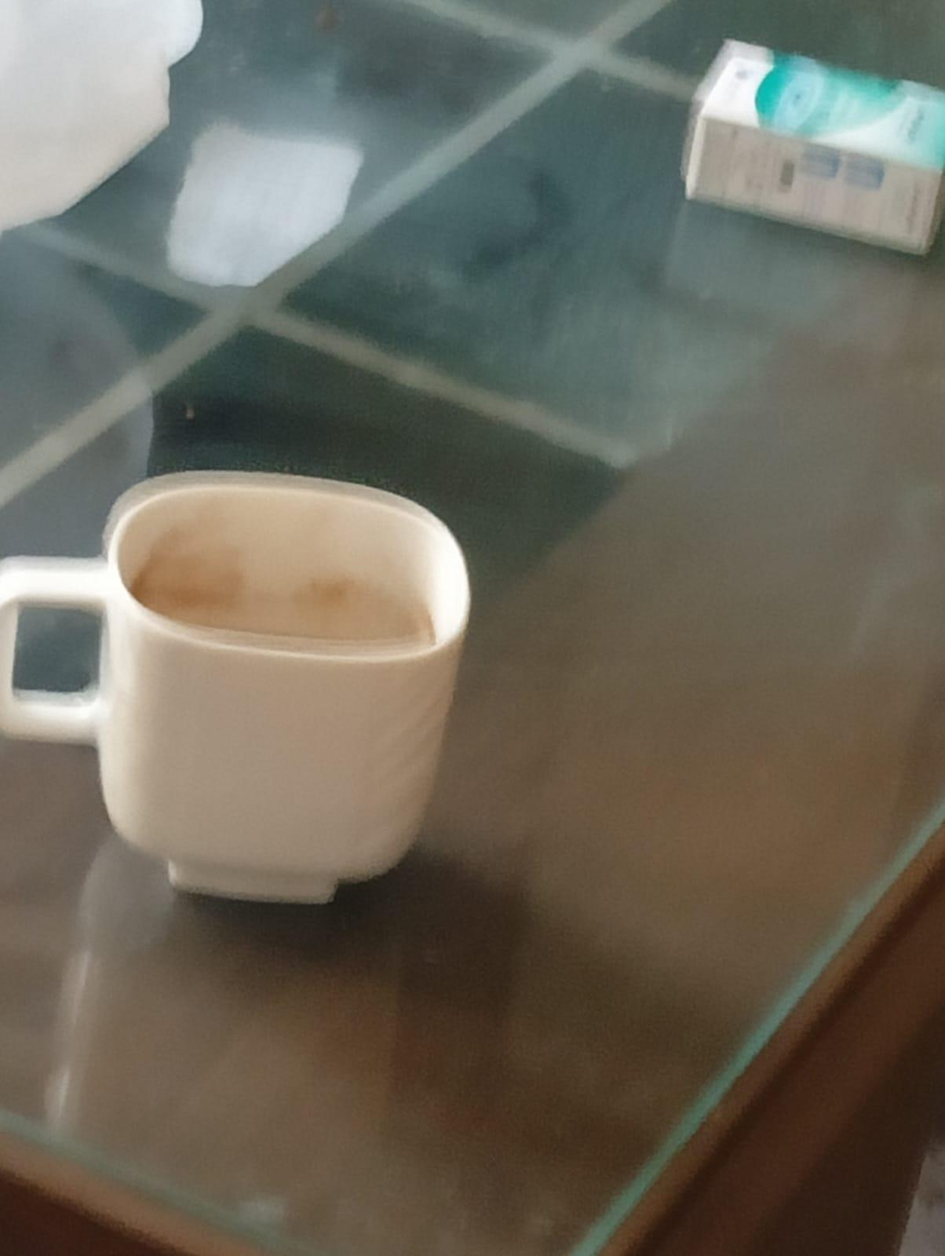cup: (0, 472, 470, 903), (107, 472, 470, 670)
